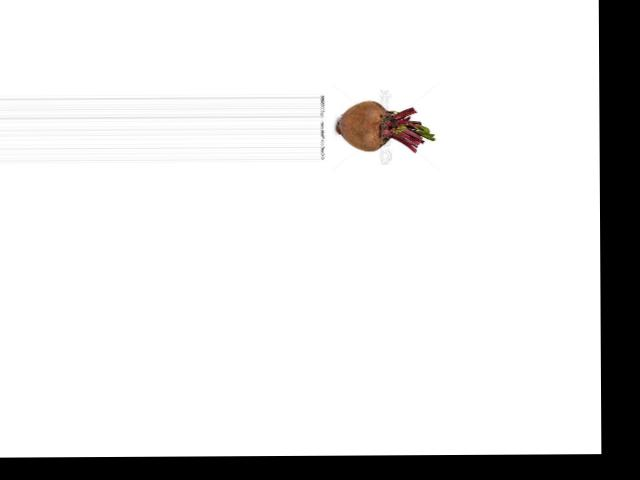beet: (336, 99, 434, 152)
